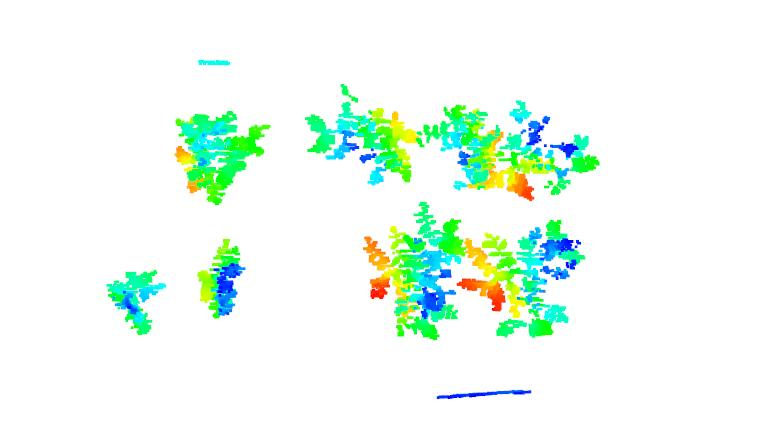chickpea: (463, 217, 586, 340), (362, 202, 462, 341), (303, 86, 421, 187), (422, 103, 534, 201), (170, 111, 270, 206), (514, 98, 602, 196), (187, 236, 247, 322), (99, 268, 165, 341)
